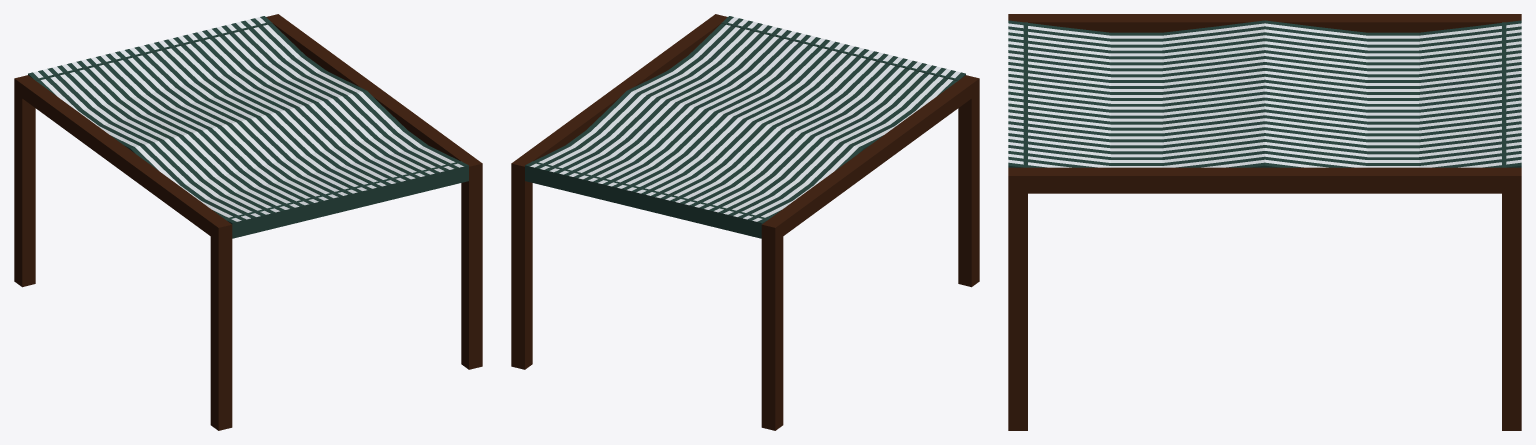
File: Sun Roof V2.fbx
3 renders of one model, left to right at view 1: azimuth 30°, elevation 25°; view 2: azimuth 150°, elevation 25°; view 3: azimuth 270°, elevation 25°, orthographic. The views are drawn at different scales.
Visible parts, largest first — view 1: Sun Roof V2; view 2: Sun Roof V2; view 3: Sun Roof V2.
Part boxes in pixels (x1,y1,x2,y2): Sun Roof V2: (14, 14, 482, 430); Sun Roof V2: (511, 14, 979, 430); Sun Roof V2: (1008, 14, 1521, 430).
Bounding box in the file's own units: 338 × 250 × 453.
